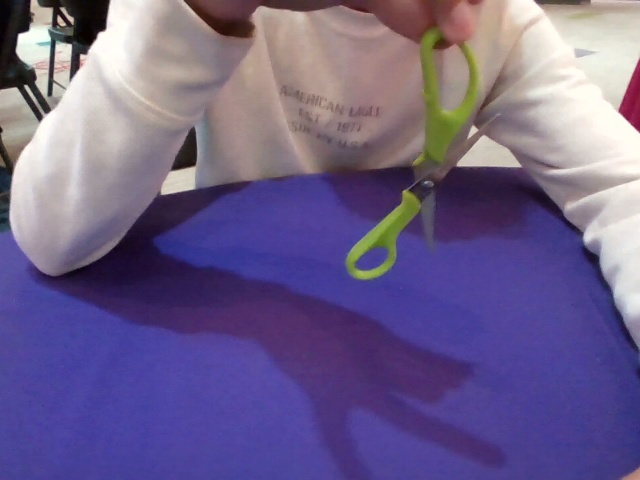tijeras: (346, 40, 491, 281)
